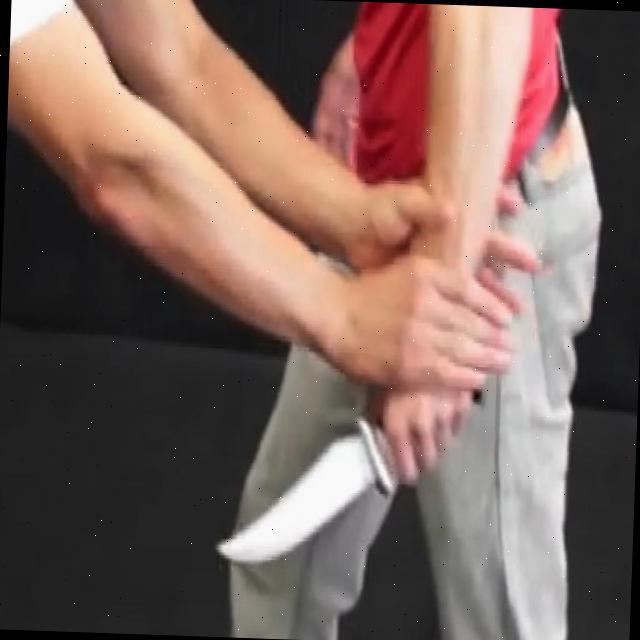suspicion: (210, 1, 558, 584), (214, 408, 392, 574)
